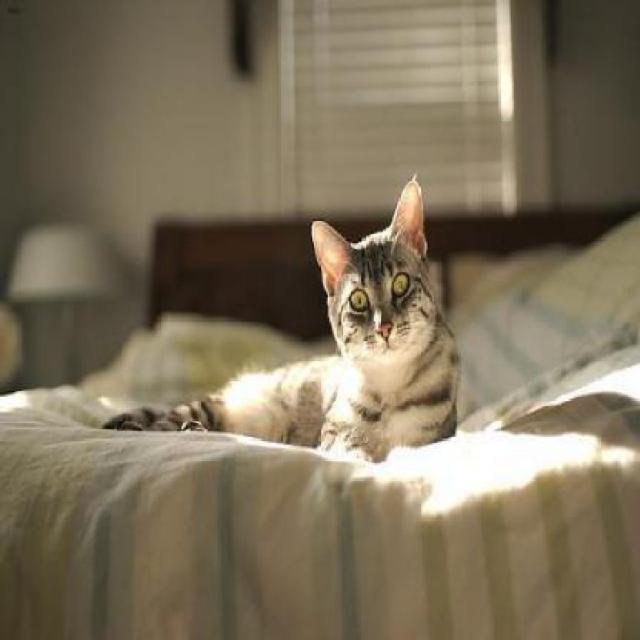cat: (104, 178, 461, 460)
